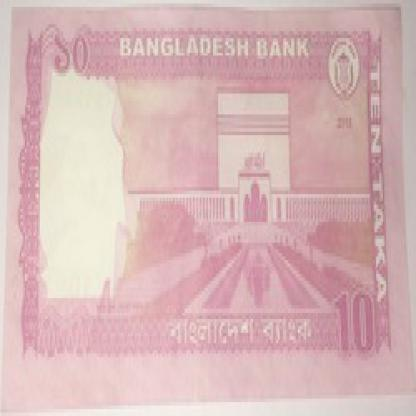Ten Taka: (326, 284, 378, 361), (48, 24, 102, 80)
